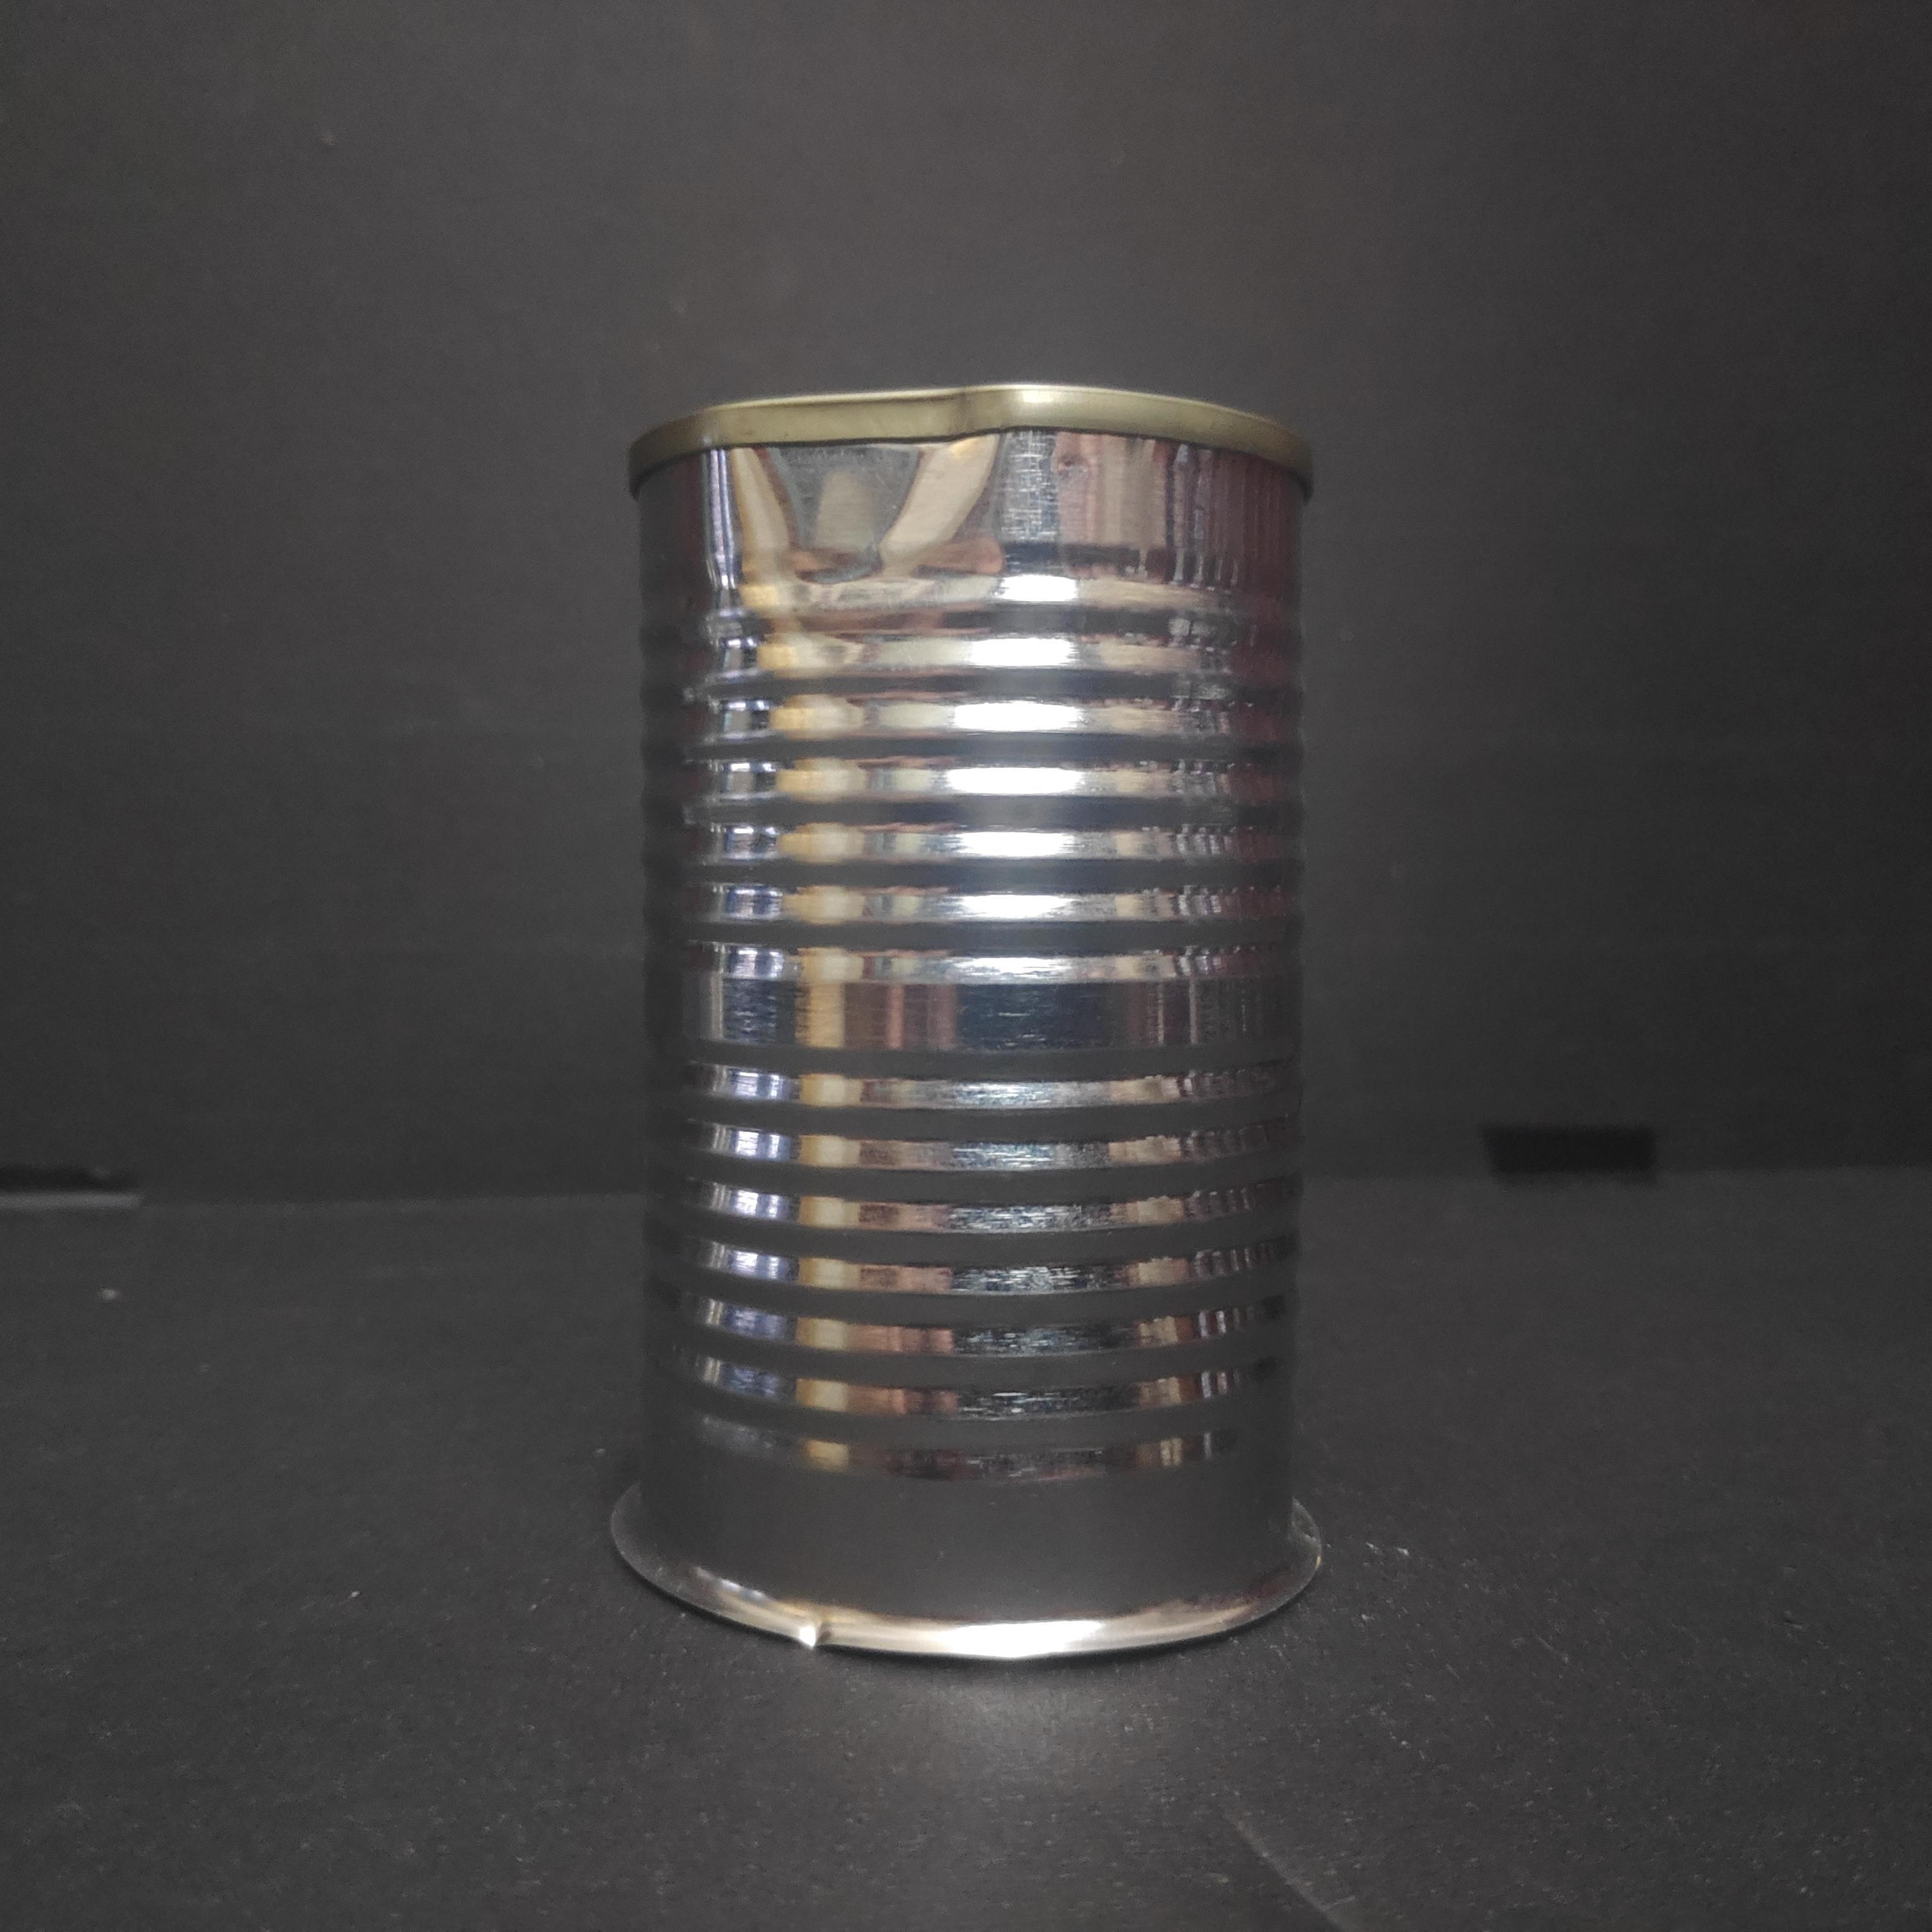Dented: (607, 354, 1336, 1677)
